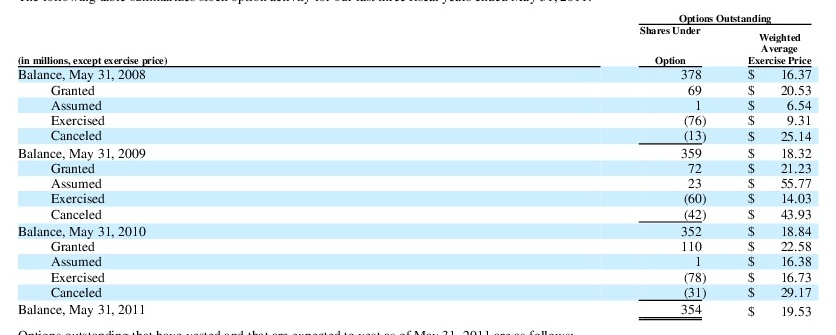table: (0, 0, 836, 335)
